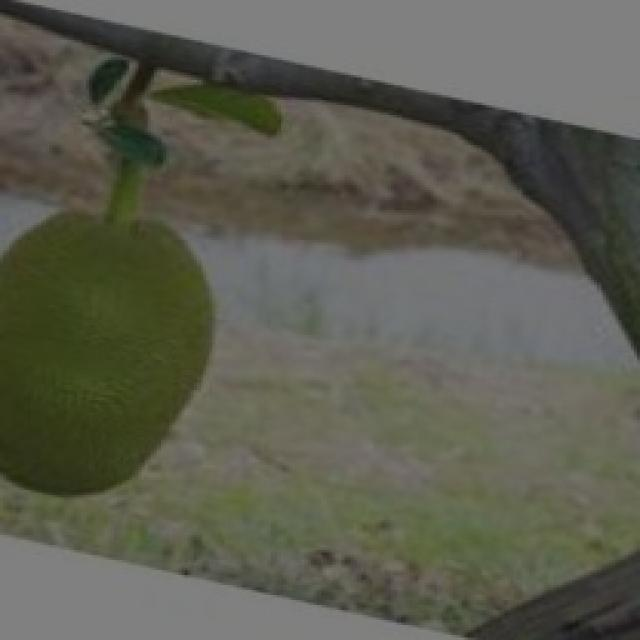Fruit: (0, 184, 252, 527)
